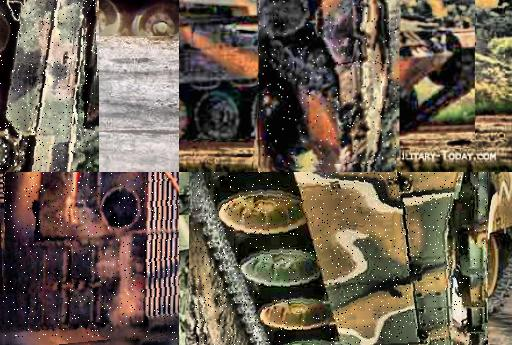tanks: (196, 173, 489, 345), (2, 173, 180, 341), (260, 1, 399, 168), (1, 1, 98, 173)
